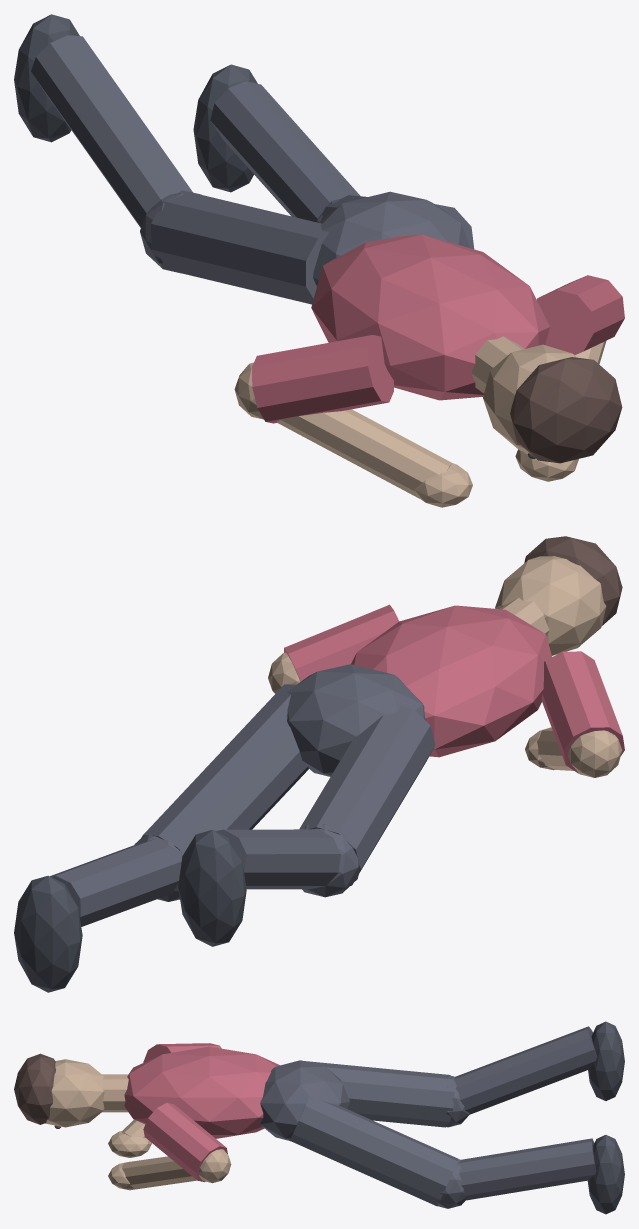
3 views of the same model, one above another, from view 1: azimuth 30°, elevation 25°; view 2: azimuth 150°, elevation 25°; view 3: azimuth 270°, elevation 25° (orthographic). The views are drawn at different scales.
Visible parts, largest first — view 1: world; view 2: world; view 3: world.
Boxes of the visible parts, x1=… form: world: x1=14, y1=14, x2=624, y2=507; world: x1=14, y1=536, x2=624, y2=992; world: x1=14, y1=1021, x2=624, y2=1214.
Size of the model in its own units: 0.93 by 0.52 by 2.08.
